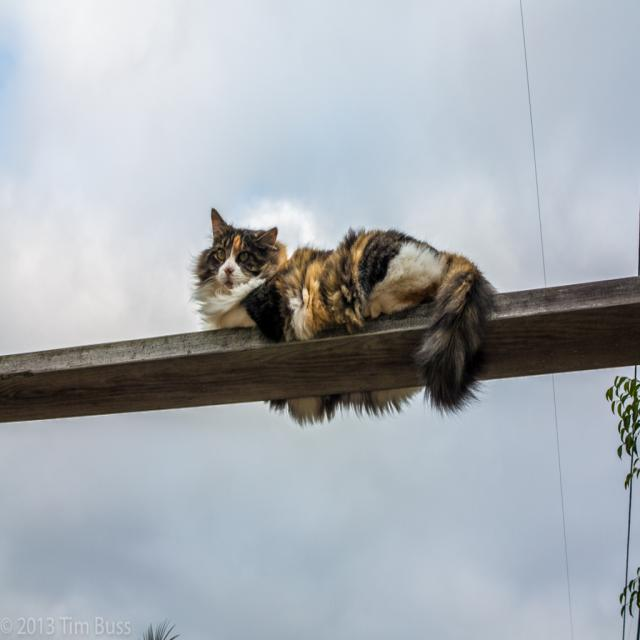Cat: (187, 205, 488, 430)
